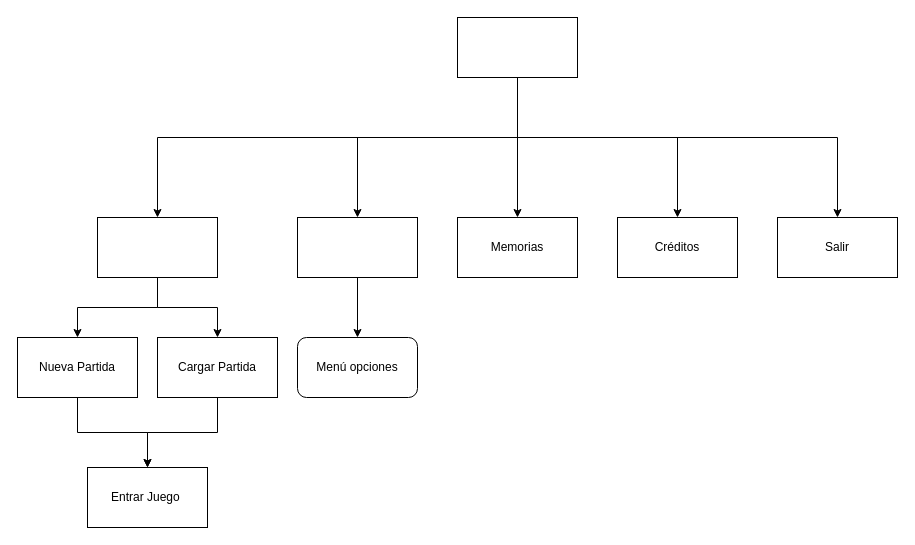
This 915x545 diagram has some shape labels left out. The shapes that lost their labels are listed below. From the top down, each one's centre as x and y in pixels, then its label:
At (517,47): "Menú inicial".
At (157,247): "Inicio".
At (357,247): "Opciones".
